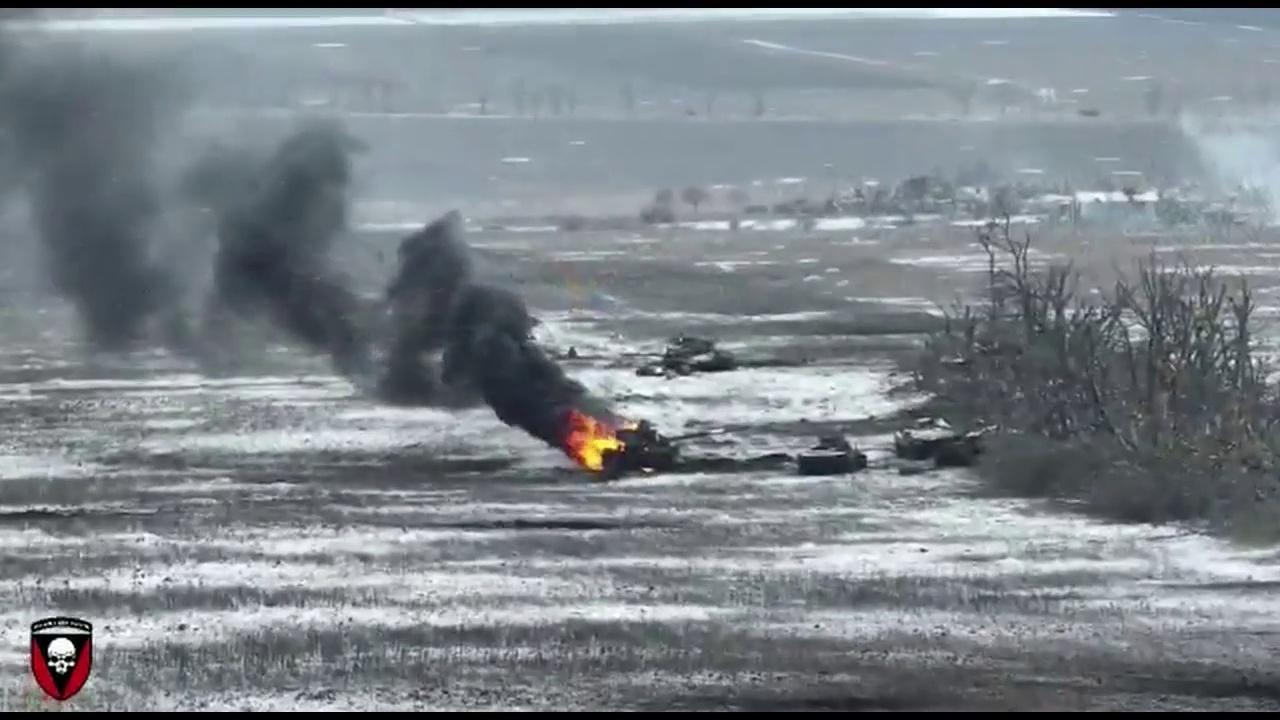vehicle: (600, 422, 709, 470), (895, 417, 981, 463), (798, 434, 868, 474), (663, 338, 737, 373)
